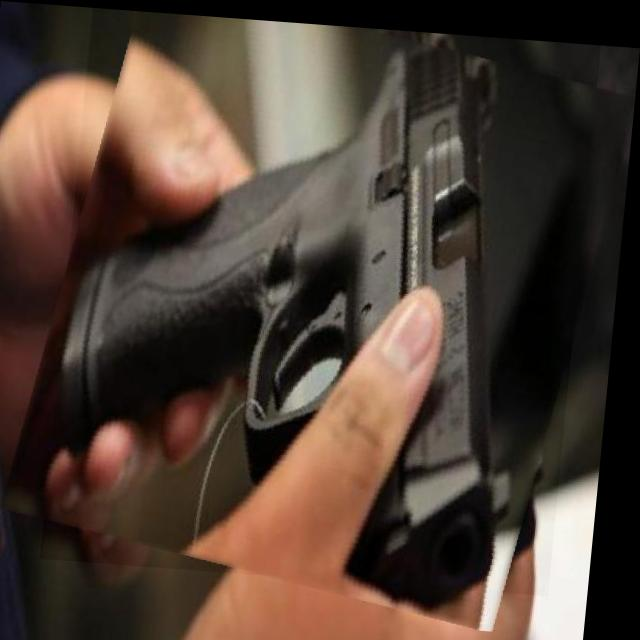handgun: (27, 4, 621, 606)
